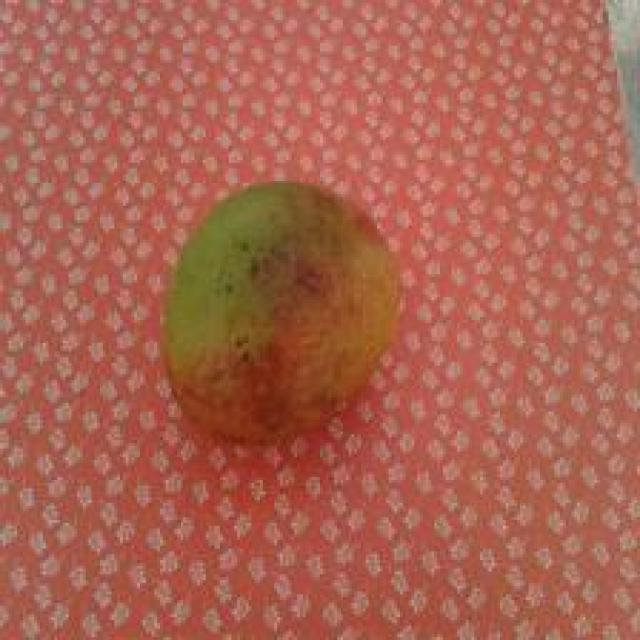mango: (157, 177, 400, 443)
